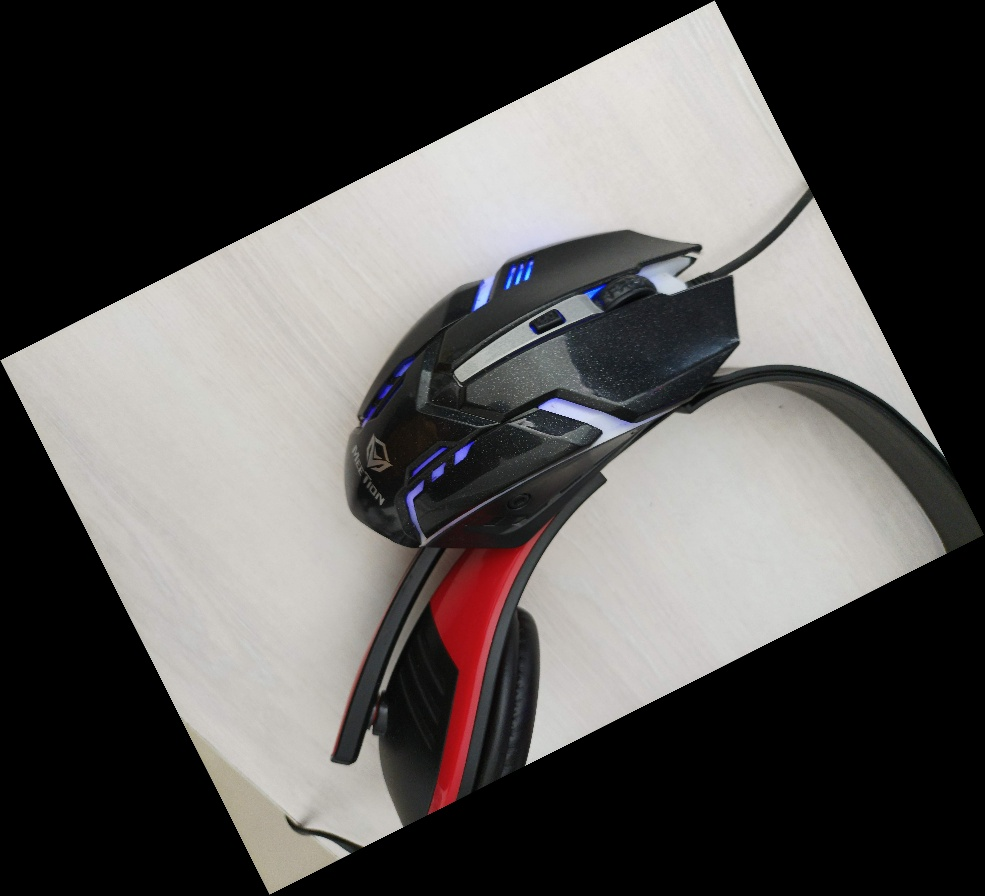mouse: (339, 222, 742, 557)
